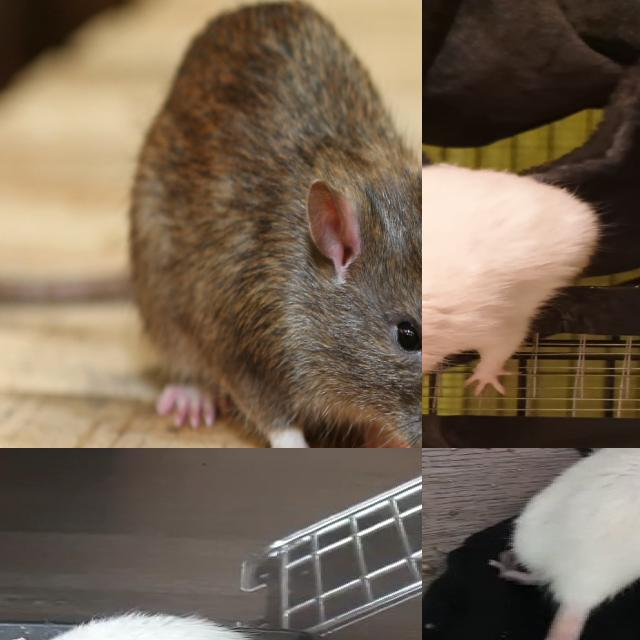rat: (132, 0, 422, 448), (422, 164, 608, 403), (507, 448, 640, 603)
